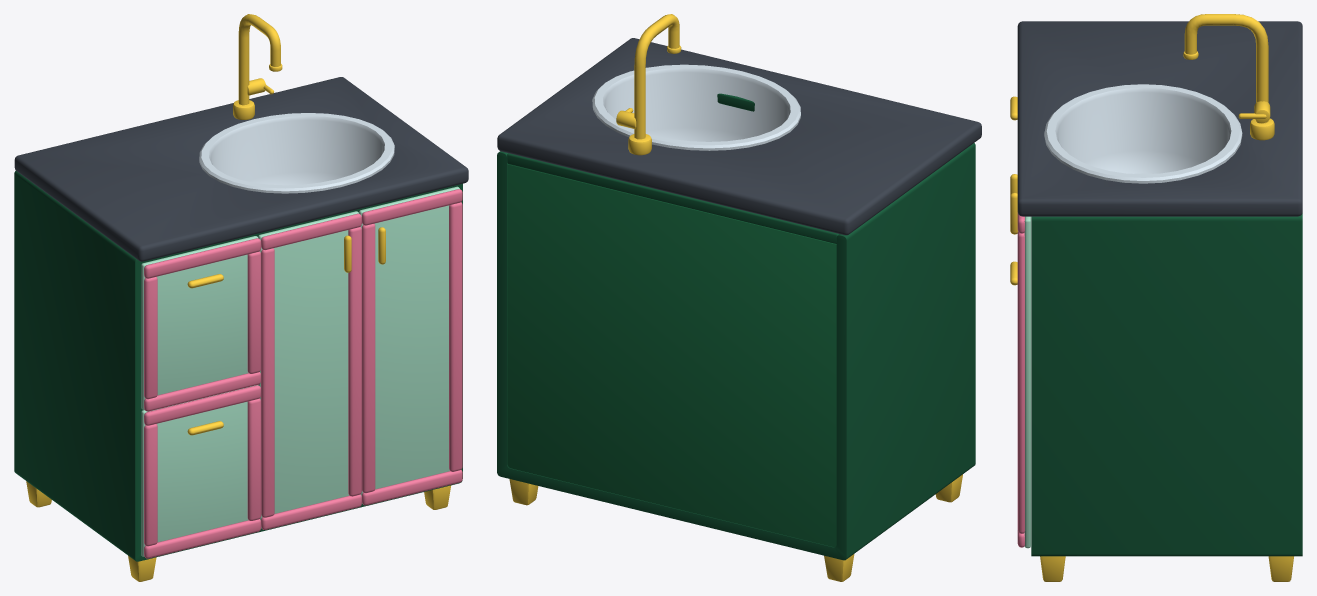
Rendered from armario_cozinha_pia_grafite_floresta.glb.
The picture shows the model from 3 angles, left to right: view 1: azimuth 30°, elevation 25°; view 2: azimuth 150°, elevation 25°; view 3: azimuth 270°, elevation 25°; orthographic projection. The views are drawn at different scales.
Visible parts, largest first — view 1: armario_cozinha_pia_grafite_floresta, porta_1, porta_2, gaveta_1, gaveta_2; view 2: armario_cozinha_pia_grafite_floresta; view 3: armario_cozinha_pia_grafite_floresta, porta_2.
Part boxes in pixels (x1=…): armario_cozinha_pia_grafite_floresta: x1=14, y1=14, x2=468, y2=581; porta_1: x1=258, y1=211, x2=361, y2=529; porta_2: x1=359, y1=186, x2=462, y2=505; gaveta_1: x1=141, y1=236, x2=260, y2=411; gaveta_2: x1=141, y1=385, x2=260, y2=558; armario_cozinha_pia_grafite_floresta: x1=497, y1=14, x2=981, y2=581; armario_cozinha_pia_grafite_floresta: x1=1017, y1=14, x2=1302, y2=581; porta_2: x1=1010, y1=192, x2=1030, y2=548.
Bounding box in the file's own units: 0.898 × 1.18 × 0.6147.
1 material, 1 textured.
